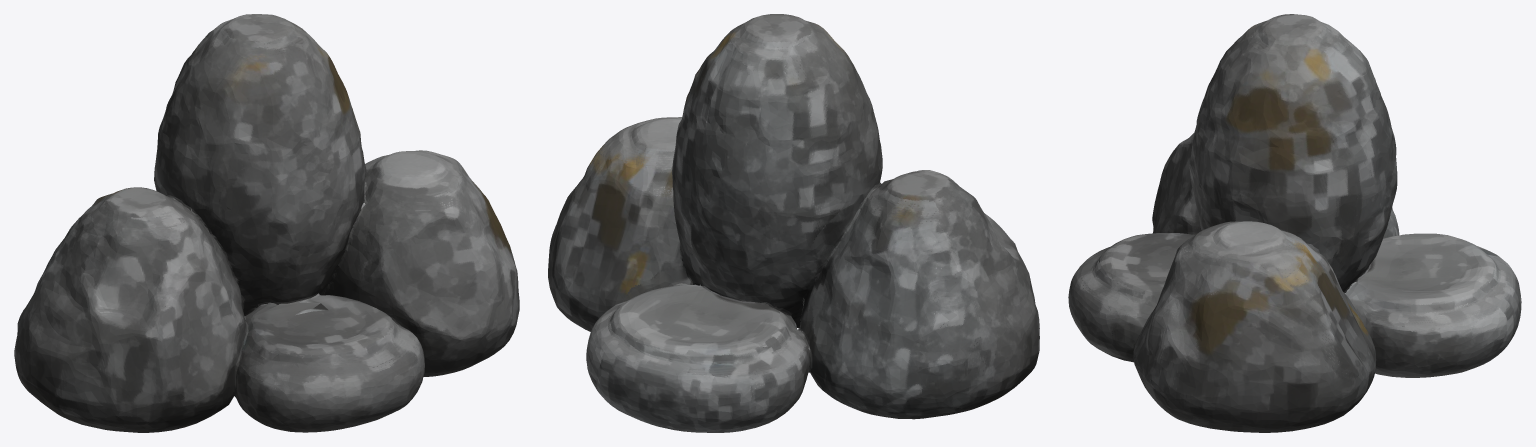
Rendered from traveler_env_coast_kensu_spring_rocks_00001_.glb.
3 views of the same model, side by side, from view 1: azimuth 30°, elevation 25°; view 2: azimuth 150°, elevation 25°; view 3: azimuth 270°, elevation 25° (orthographic). The views are drawn at different scales.
Visible parts, largest first — view 1: temp_mesh.ply; view 2: temp_mesh.ply; view 3: temp_mesh.ply.
Part boxes in pixels (x1,y1,x2,y2): temp_mesh.ply: [14, 14, 519, 432]; temp_mesh.ply: [548, 14, 1039, 432]; temp_mesh.ply: [1068, 14, 1521, 432].
Bounding box in the file's own units: 1.97 × 1.38 × 1.75.
1 material, 1 textured.
